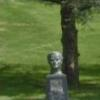Statue: (42, 50, 71, 98)
